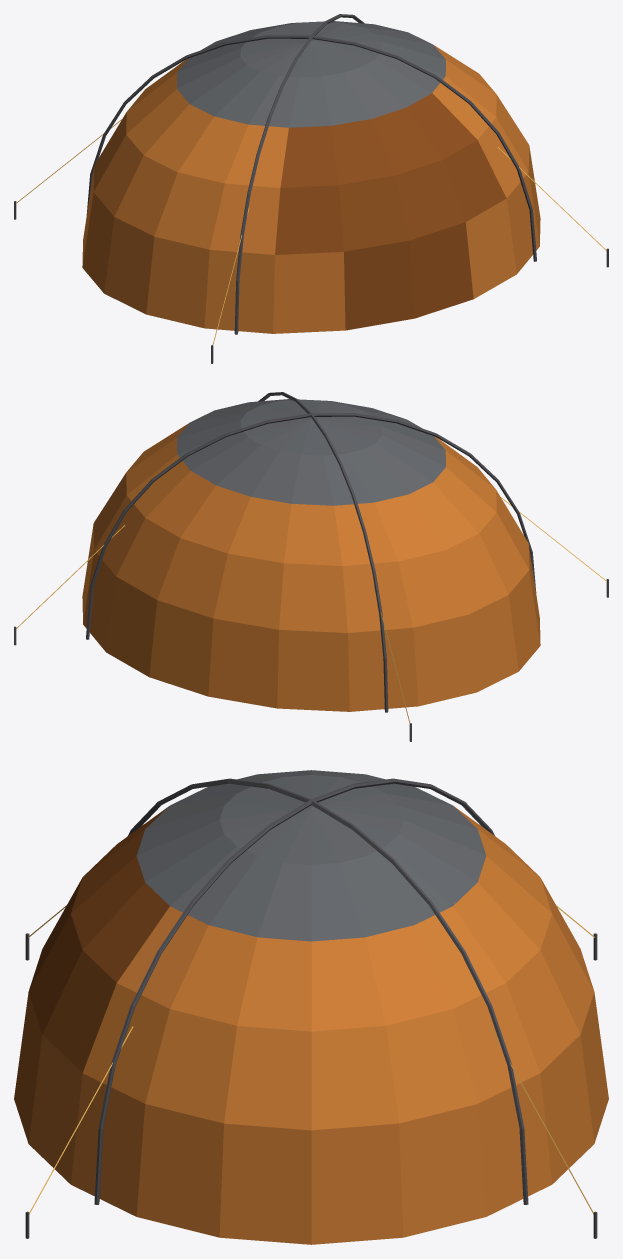
Rendered from tent_dome_4p_custom.glb.
The picture shows the model from 3 angles, top to bottom: view 1: azimuth 30°, elevation 25°; view 2: azimuth 150°, elevation 25°; view 3: azimuth 270°, elevation 25°; orthographic projection. The views are drawn at different scales.
Visible parts, largest first — view 1: body; view 2: body; view 3: body.
Part boxes in pixels (x1,y1,x2,y2): body: (14, 14, 608, 363); body: (14, 392, 608, 741); body: (14, 770, 608, 1244).
Size of the model in its own units: 2.9 by 1.39 by 2.5.
Materials: 3 (3 with a texture image).
